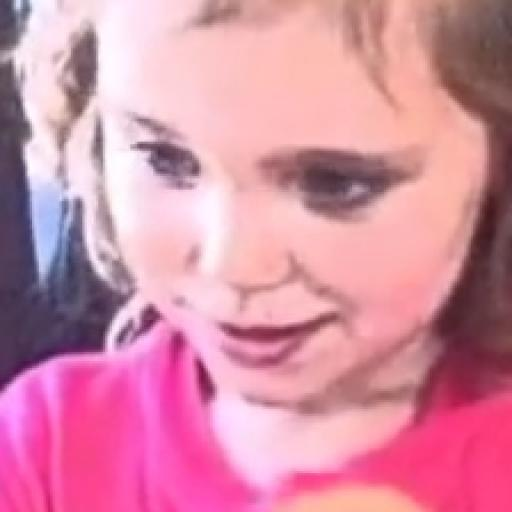Autism: (59, 0, 512, 452)
